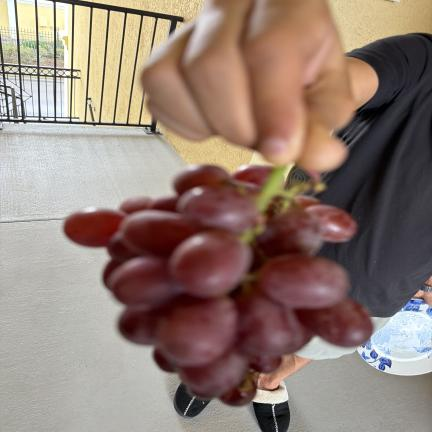grape_cluster: (64, 165, 372, 405)
